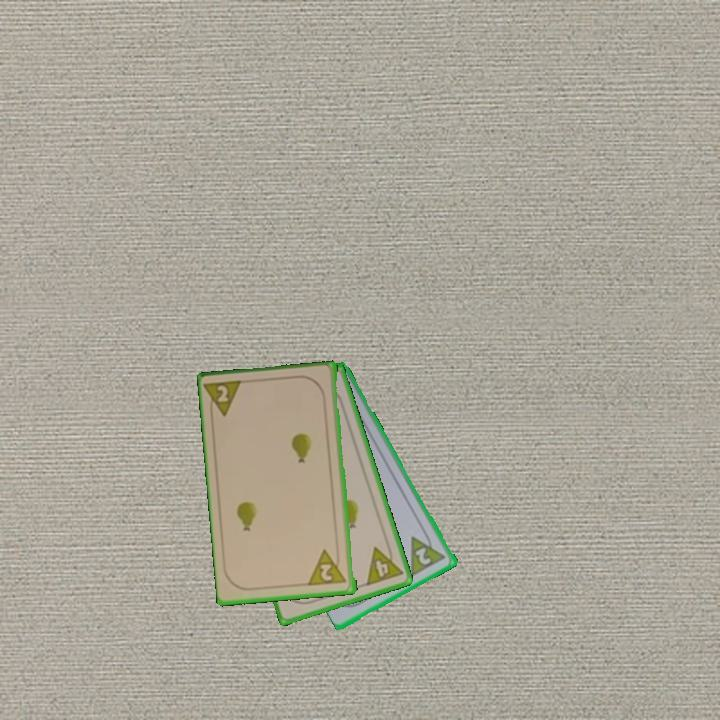2p: (203, 377, 247, 421), (306, 546, 350, 589), (412, 544, 435, 568)
4p: (362, 540, 406, 589)
